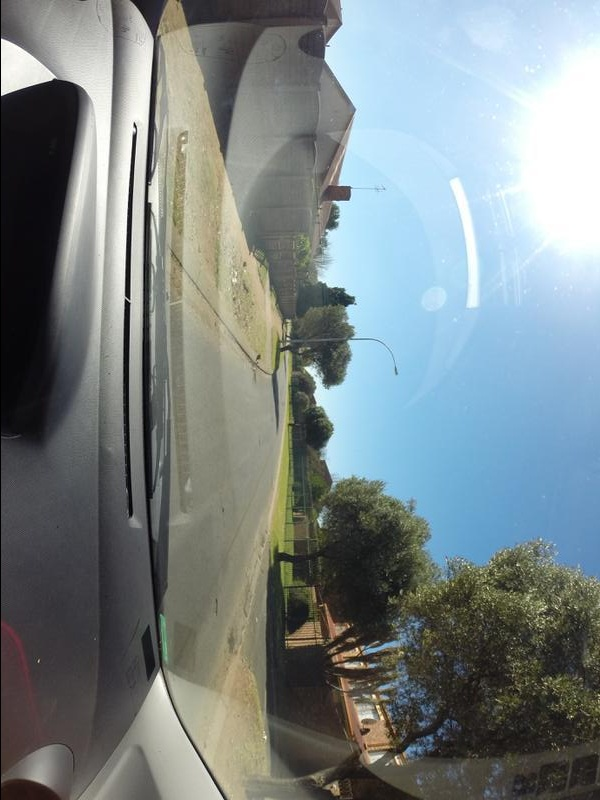pothole: (201, 596, 227, 628)
